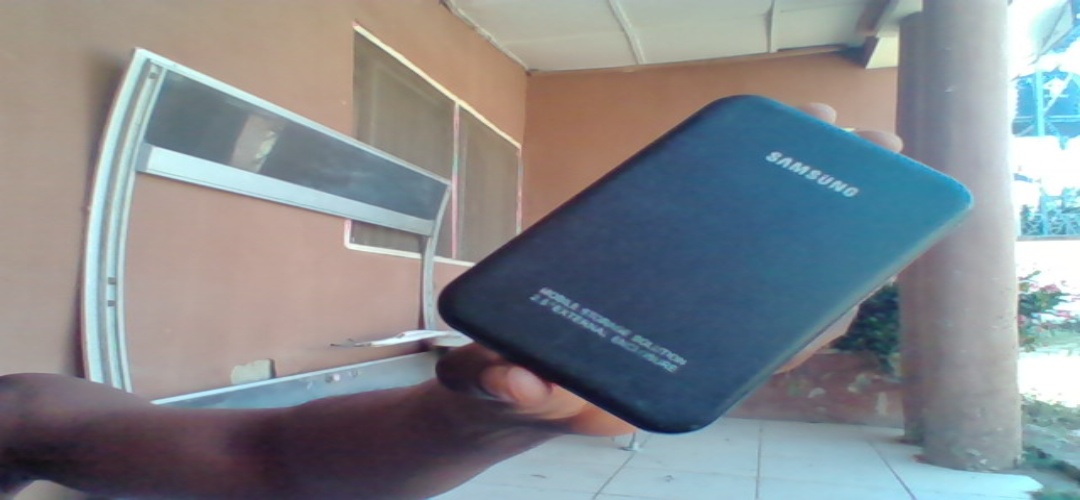hard_disk_case: (449, 73, 981, 450)
